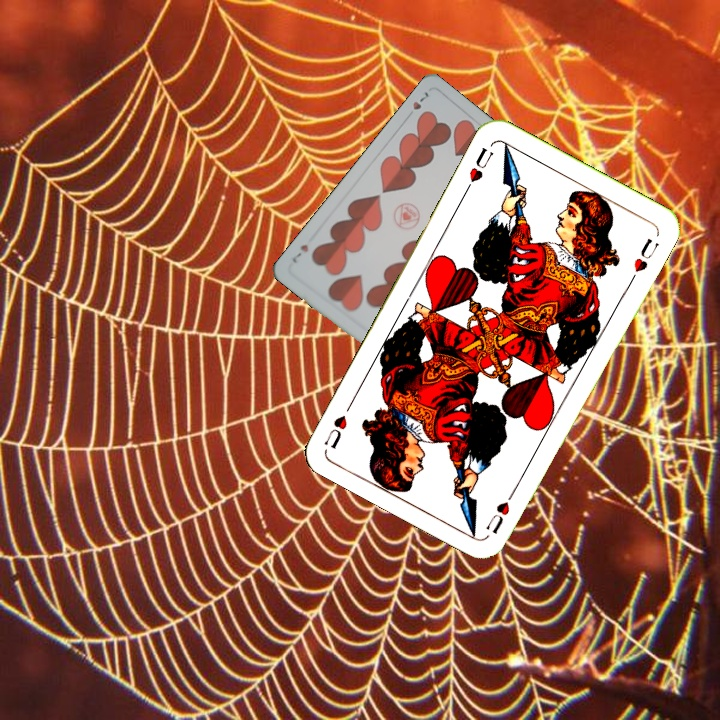H7: (402, 87, 431, 121)
HU: (481, 483, 520, 537), (461, 143, 496, 195)
